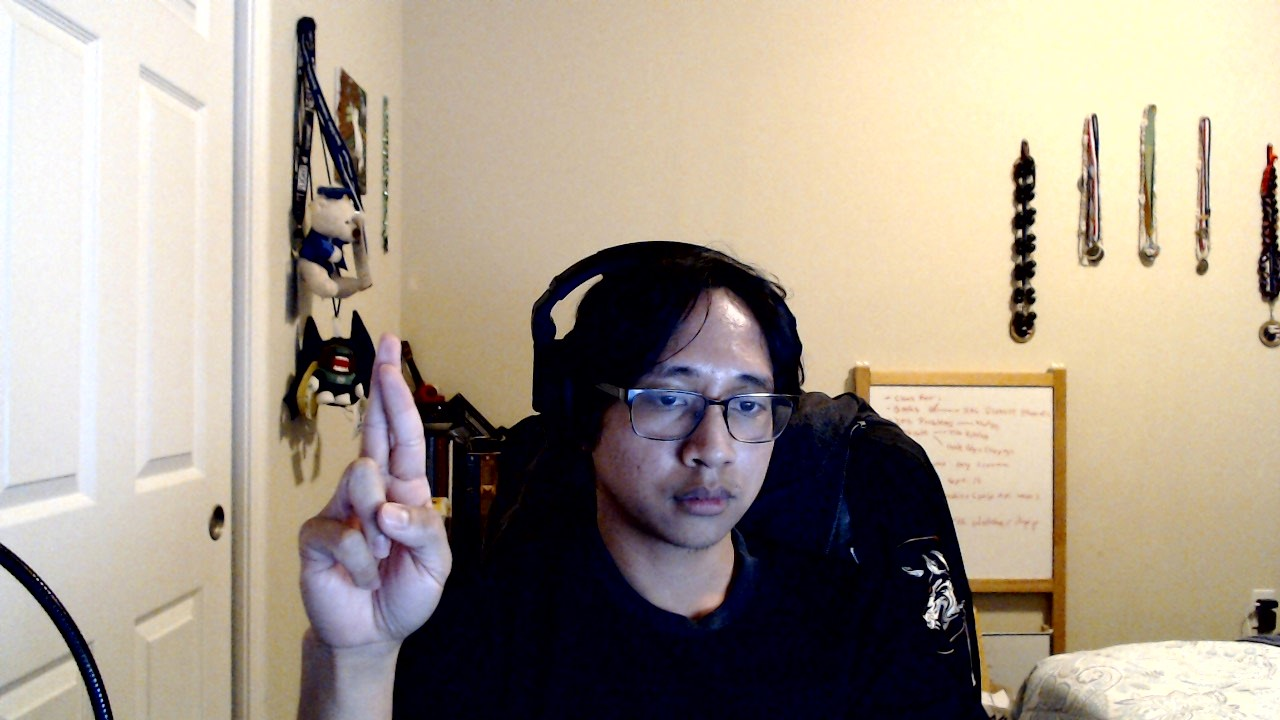r: (297, 330, 454, 659)
